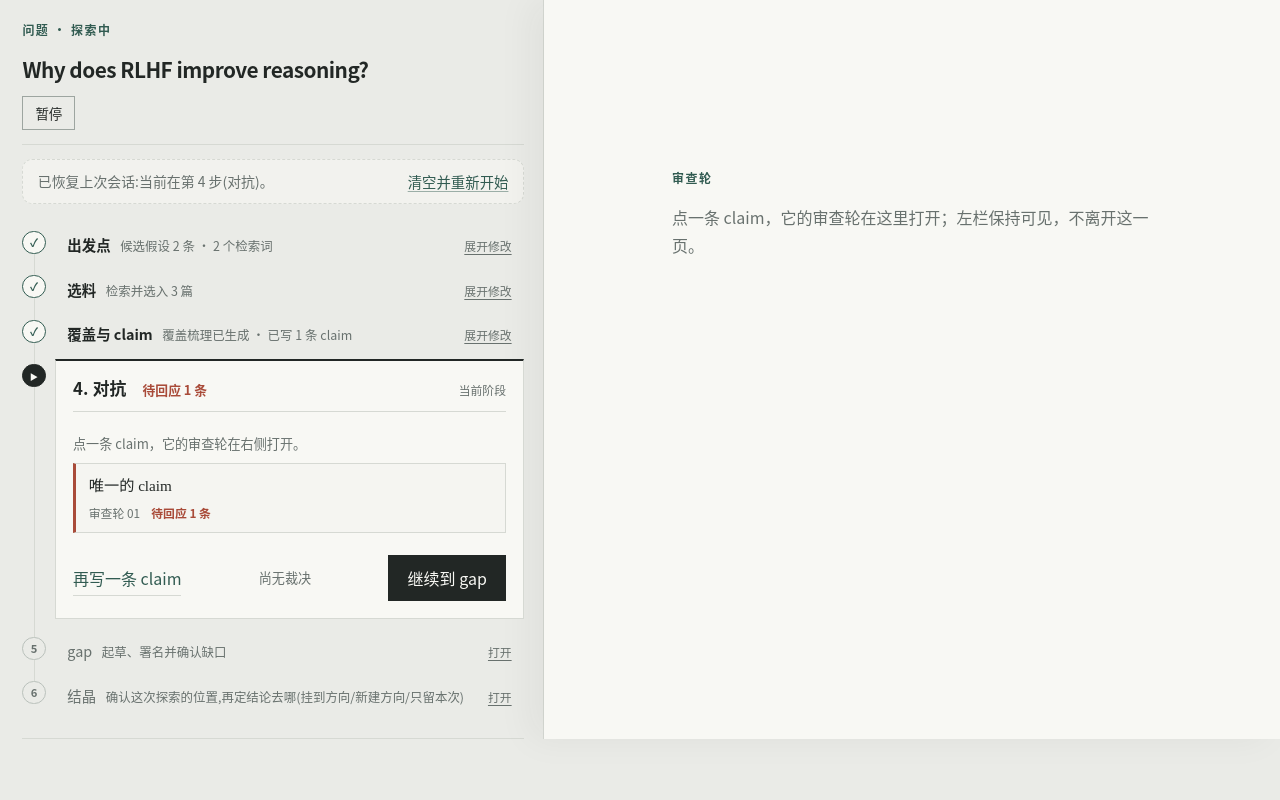
Scenario: 对抗 stage card: claim list + right-side review panel (S2) › no verdict yet: 「继续到 gap」 carries a 尚无裁决 hint but does not lock
Expected: the text "唯一的 claim" is shown, [89,474,172,499]
Expected: the text "尚无裁决" is shown, [259,567,311,589]
Click the button "继续到 gap" at (447, 578), box [388,555,506,601]
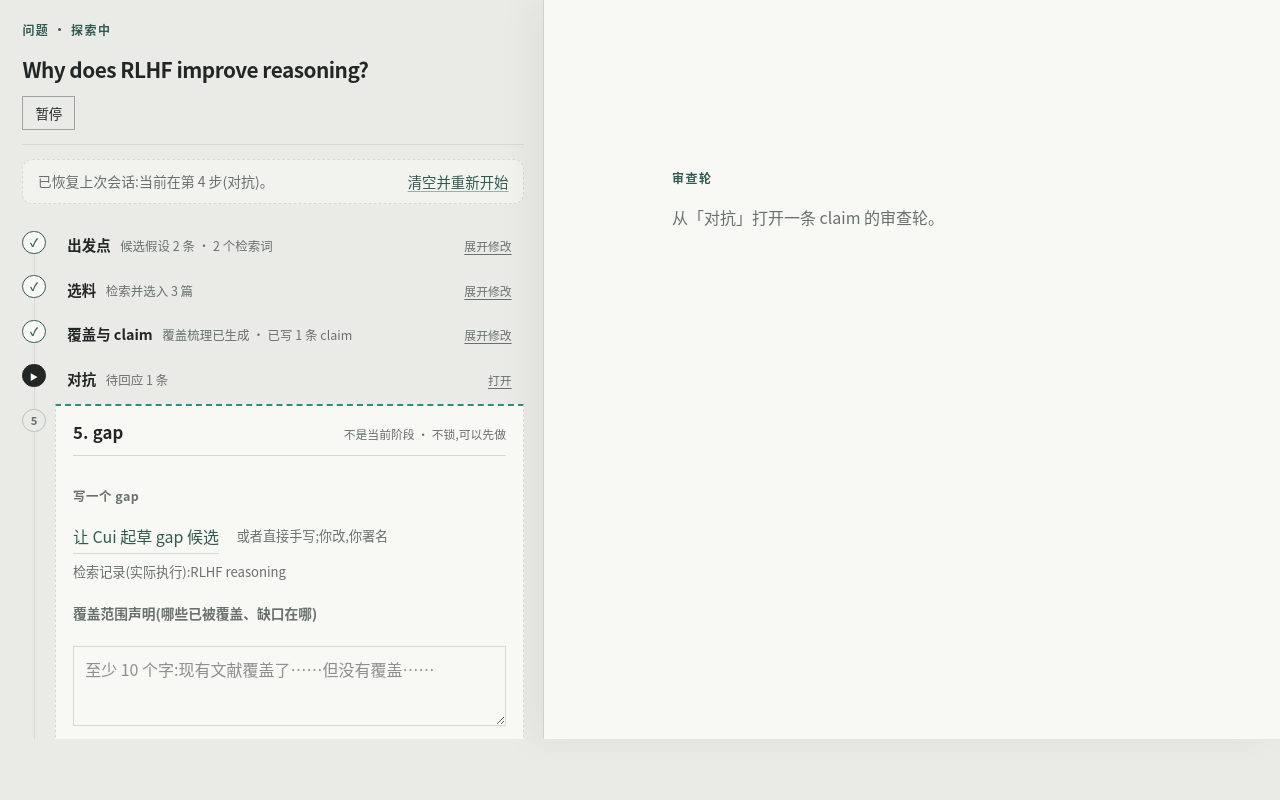
Now the heading "5. gap" is shown, box [73,420,124,446]
